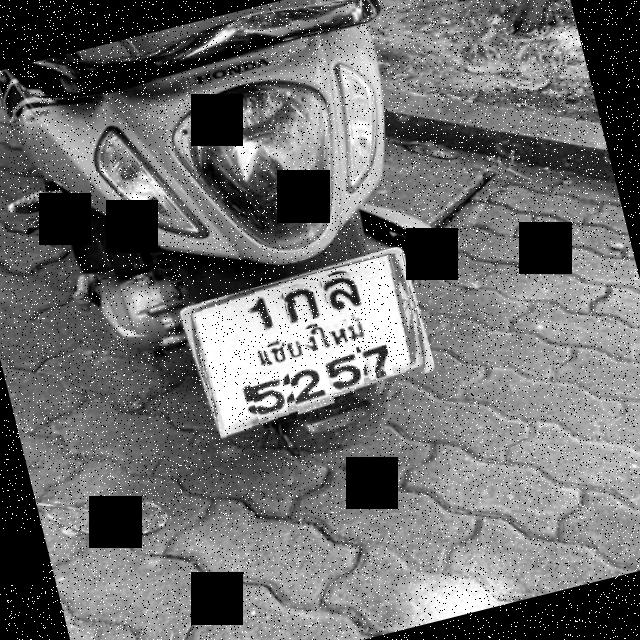letters: (286, 357, 335, 415), (320, 268, 368, 320), (247, 366, 291, 422), (235, 293, 282, 342), (318, 344, 364, 394), (281, 280, 323, 324), (358, 336, 393, 380)
license-plate: (189, 251, 429, 440)
province: (260, 311, 383, 365)
